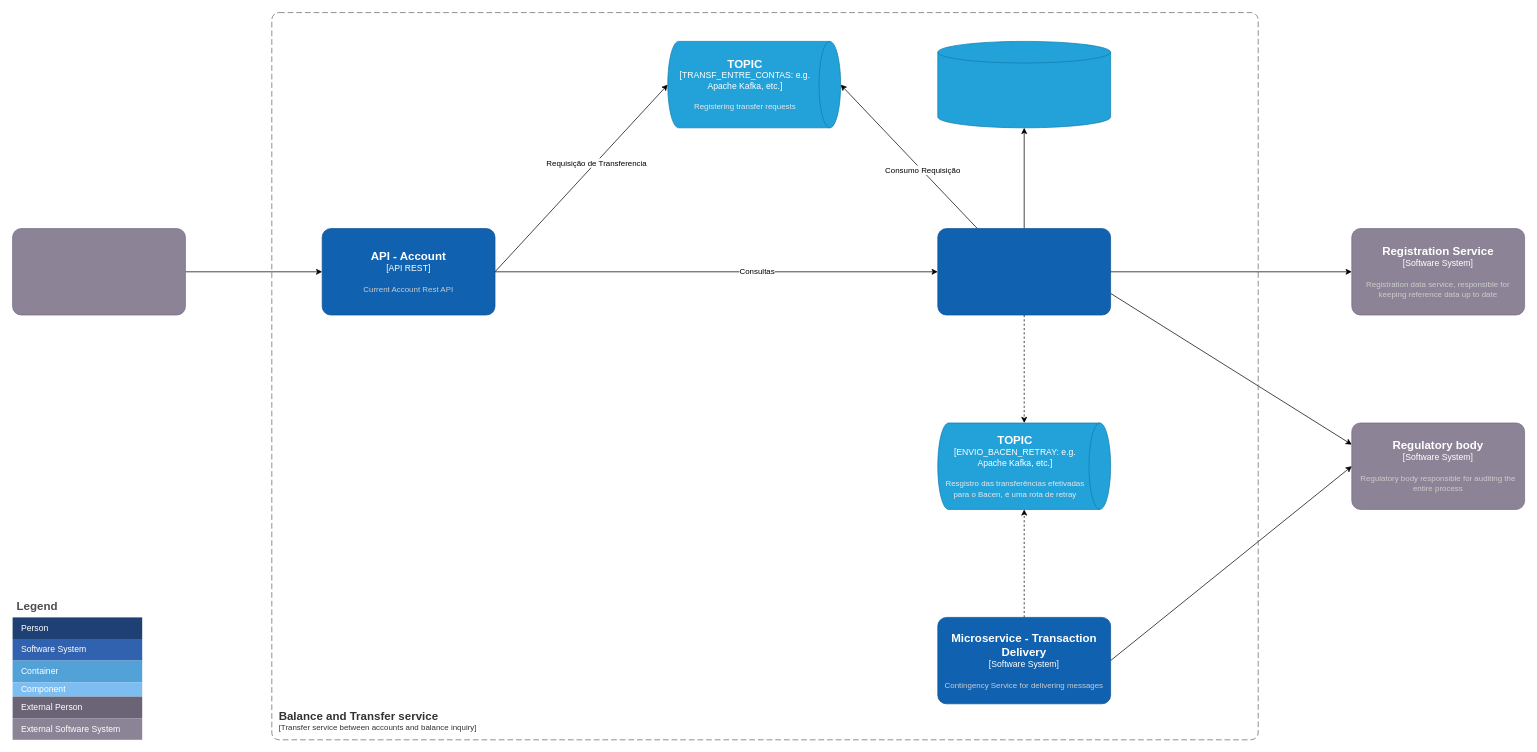
This 1537x752 diagram has some shape labels left out. The shapes that lost their labels are listed below. From the top down, each one's centre as x and y in pixels, then its label:
At (1024,84): "Database [Container: e.g. RDBMS] Account and transfer registration database".
At (98,271): "Consumer [Software System] It's the system that consumes the service itself".
At (1024,271): "Microservice - Account [Software System] Current Account microservice".
